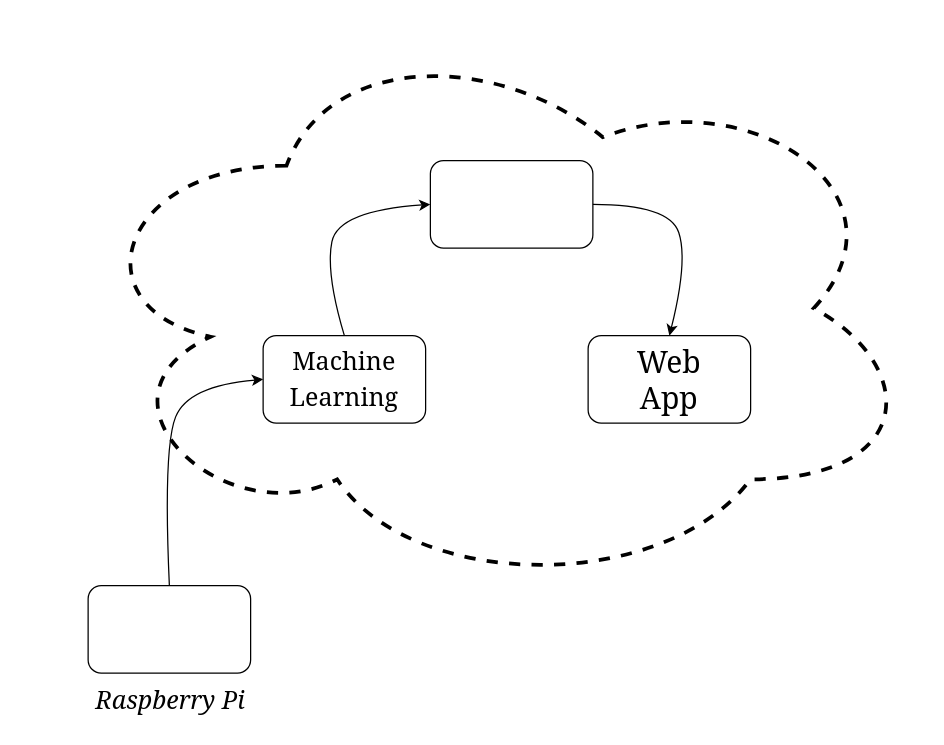
This 944x745 diagram has some shape labels left out. The centre of each missing label's shape, as x and y in pixels:
"Database" belongs at point 511,203.
"Sensors" belongs at point 169,628.
